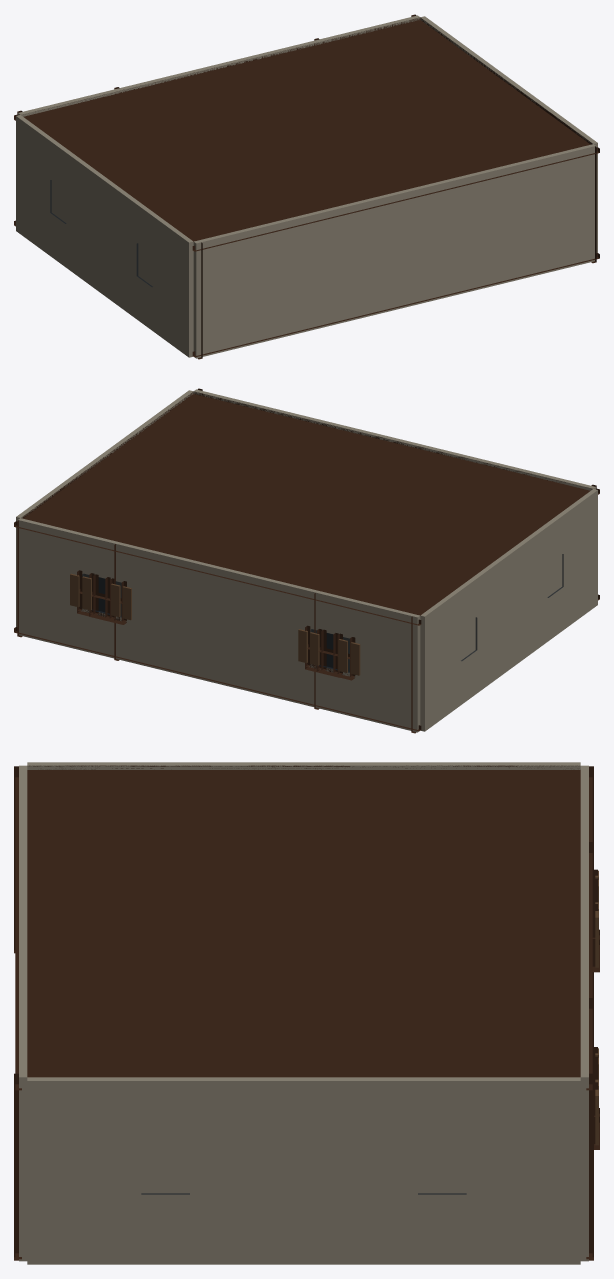
The model's file is GalakasMidCity_UPR_W08D06_MixedLCorner_01.obj.
3 views of the same model, one above another, from view 1: azimuth 30°, elevation 25°; view 2: azimuth 150°, elevation 25°; view 3: azimuth 270°, elevation 25° (orthographic). The views are drawn at different scales.
Visible parts, largest first — view 1: upper_ceiling_cap, upper_back_wall, upper_left_wall, upper_front_wall, upper_right_wall, upper_back_course_422, upper_back_course_18; view 2: upper_ceiling_cap, upper_front_wall, upper_left_wall, upper_back_wall, upper_right_wall, upper_front_course_18, upper_front_course_422; view 3: upper_ceiling_cap, upper_right_wall, upper_front_wall, upper_back_wall, upper_left_wall, upper_back_course_422, upper_front_course_422, upper_front_post_7_9, upper_back_post_7_9.
Part boxes in pixels (box(x1,y1,x2,y2)): upper_ceiling_cap: box(23, 17, 592, 241); upper_back_wall: box(193, 144, 595, 358); upper_left_wall: box(16, 115, 193, 357); upper_front_wall: box(18, 15, 420, 116); upper_right_wall: box(420, 16, 597, 252); upper_back_course_422: box(192, 147, 599, 251); upper_back_course_18: box(192, 253, 599, 357); upper_ceiling_cap: box(21, 391, 591, 615); upper_front_wall: box(18, 518, 420, 732); upper_left_wall: box(420, 489, 597, 731); upper_back_wall: box(194, 389, 595, 490); upper_right_wall: box(16, 390, 193, 626); upper_front_course_18: box(14, 627, 421, 731); upper_front_course_422: box(14, 521, 421, 625); upper_ceiling_cap: box(27, 765, 580, 1077); upper_right_wall: box(27, 1077, 580, 1264); upper_front_wall: box(580, 765, 588, 1261); upper_back_wall: box(19, 765, 27, 1261); upper_left_wall: box(27, 762, 580, 769); upper_back_course_422: box(15, 777, 21, 1090); upper_front_course_422: box(586, 777, 592, 1090); upper_front_post_7_9: box(589, 1073, 593, 1260); upper_back_post_7_9: box(14, 1073, 18, 1260).
Size of the model in its own units: 16.48 by 4.4 by 12.71.
